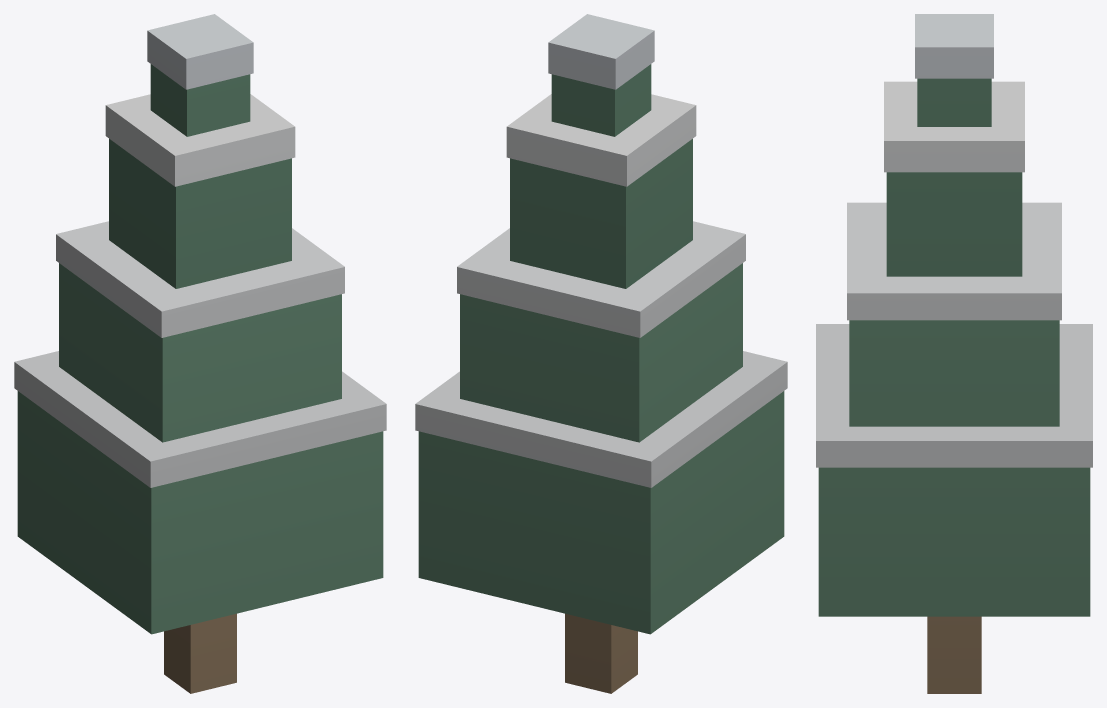
The model's file is tree_pine_snow.glb.
The picture shows the model from 3 angles, left to right: view 1: azimuth 30°, elevation 25°; view 2: azimuth 150°, elevation 25°; view 3: azimuth 270°, elevation 25°; orthographic projection.
Parts seen in each view (by area): view 1: root; view 2: root; view 3: root.
Part boxes in pixels (<box>): root: <box>14,14,386,693</box>; root: <box>415,14,787,693</box>; root: <box>816,14,1092,693</box>.
Bounding box in the file's own units: 1.12 × 2.91 × 1.12.
